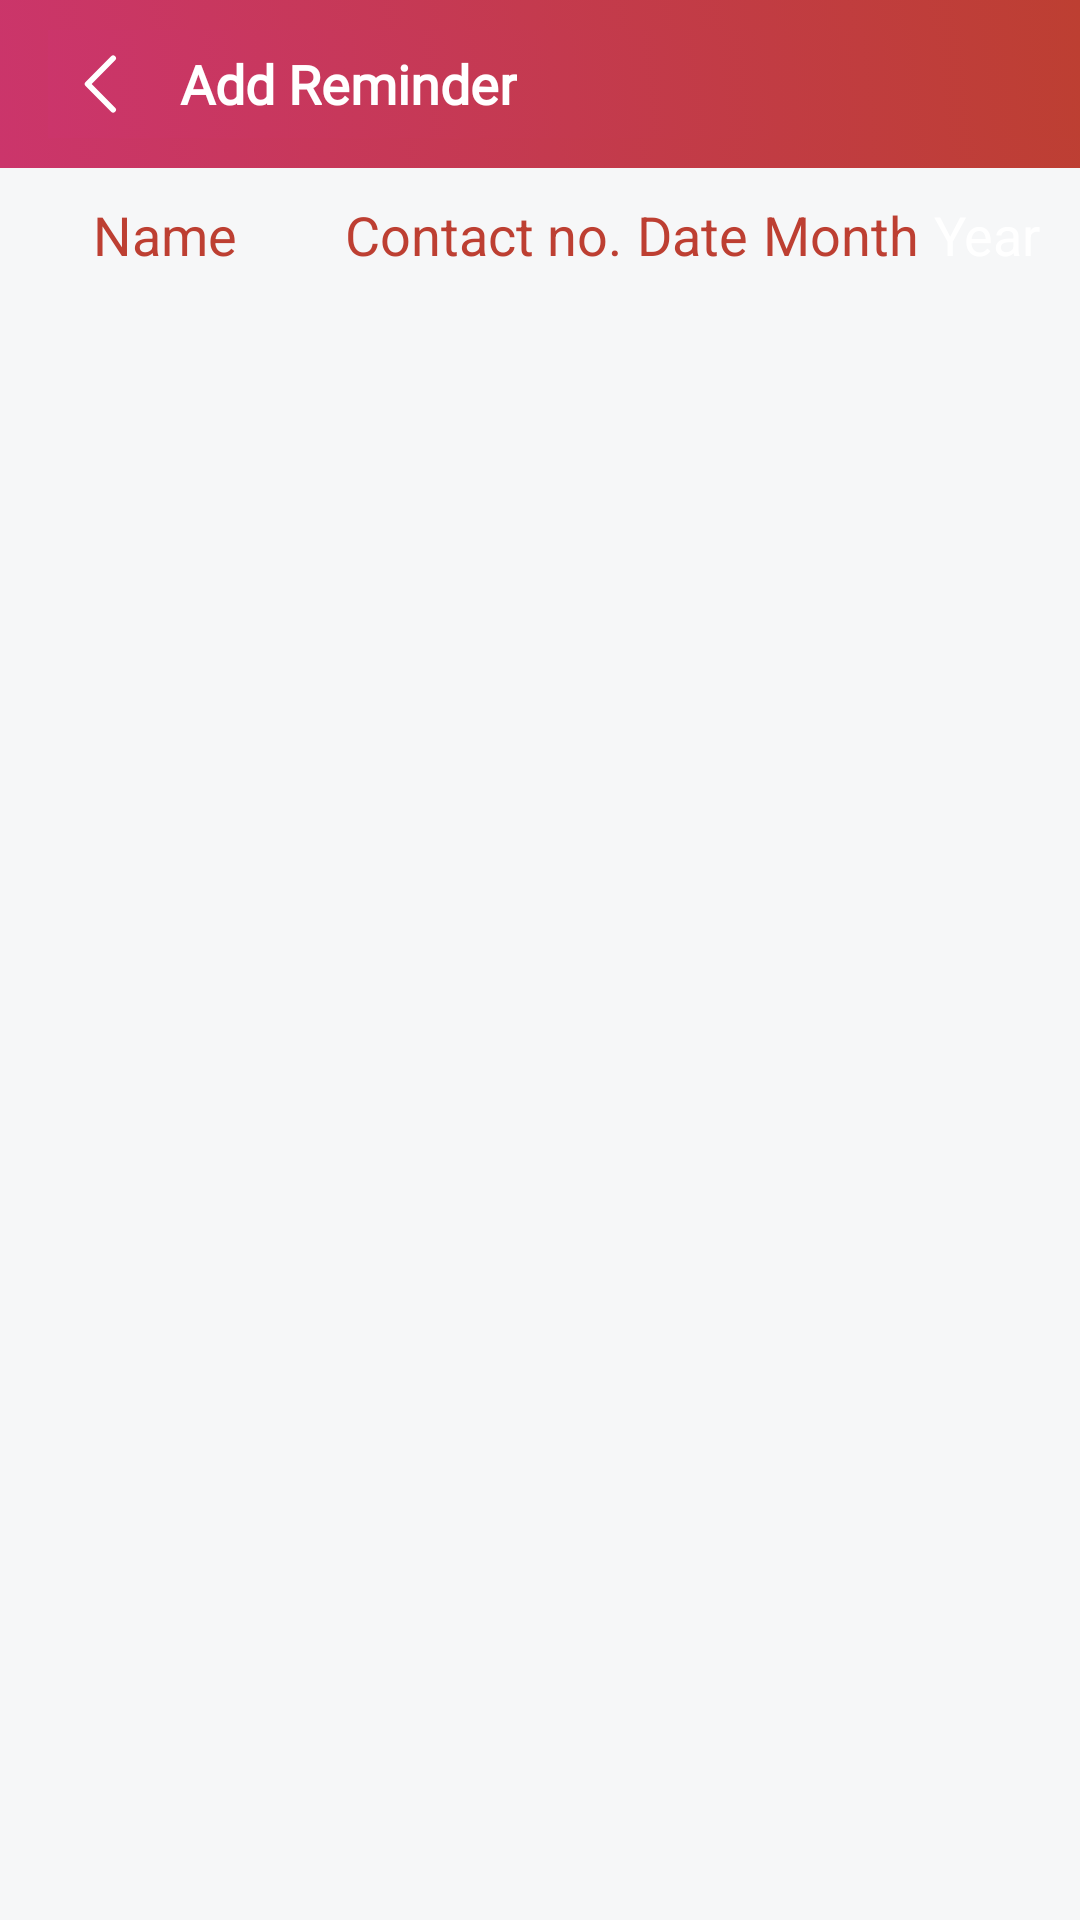

Icons on this 1080w x 1920h Android screen, each with the point to tap as [x,y]:
back arrow: [100,84]
